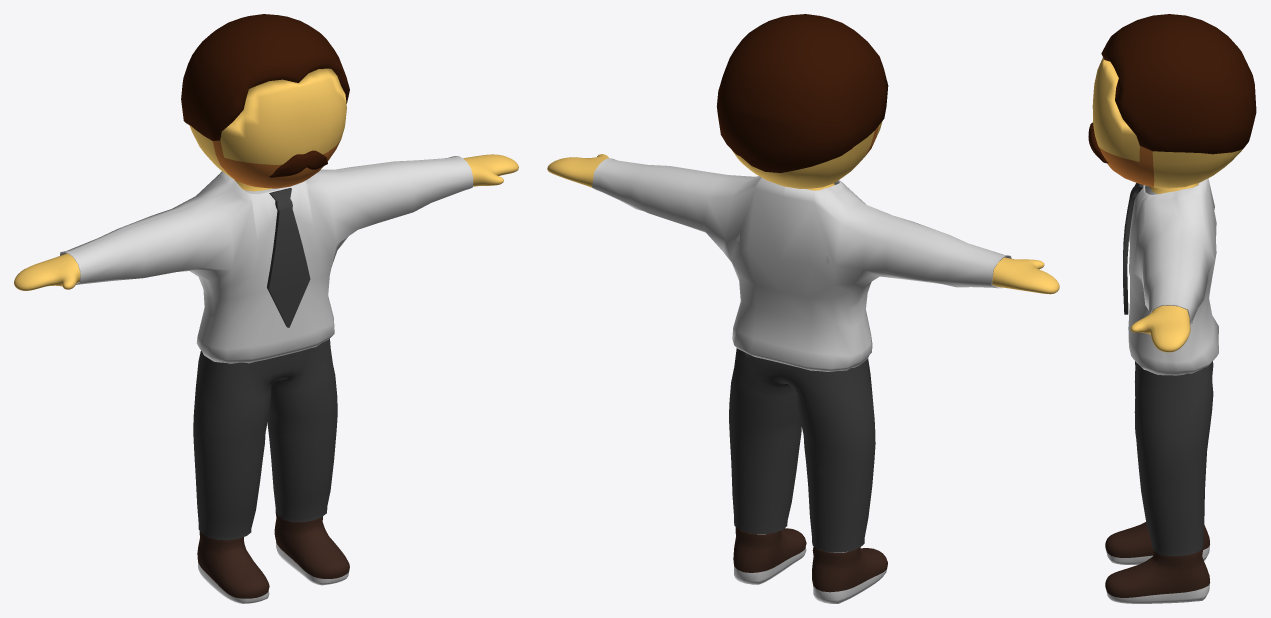
The model's file is Coach-2.fbx.
3 views of the same model, side by side, from view 1: azimuth 30°, elevation 25°; view 2: azimuth 150°, elevation 25°; view 3: azimuth 270°, elevation 25° (orthographic).
Parts seen in each view (by area): view 1: Shirt, Body, Trousers, Shoe.002, Shoe.003; view 2: Shirt, Body, Trousers, Shoe.003, Shoe.002; view 3: Body, Shirt, Trousers, Shoe.002, Shoe.003.
Boxes of the visible parts, left/top/right/bottom form: Shirt: left=60, top=156, right=473, bottom=363; Body: left=14, top=14, right=518, bottom=290; Trousers: left=193, top=338, right=337, bottom=540; Shoe.002: left=274, top=512, right=349, bottom=585; Shoe.003: left=197, top=531, right=269, bottom=603; Shirt: left=592, top=158, right=1011, bottom=371; Body: left=547, top=14, right=1059, bottom=552; Trousers: left=729, top=348, right=875, bottom=552; Shoe.003: left=812, top=546, right=887, bottom=603; Shoe.002: left=733, top=527, right=806, bottom=584; Body: left=1088, top=14, right=1256, bottom=352; Shirt: left=1123, top=178, right=1218, bottom=375; Trousers: left=1134, top=361, right=1213, bottom=556; Shoe.002: left=1105, top=548, right=1210, bottom=603; Shoe.003: left=1105, top=522, right=1209, bottom=564.
Bounding box in the file's own units: 5.98 × 6.26 × 1.72.
